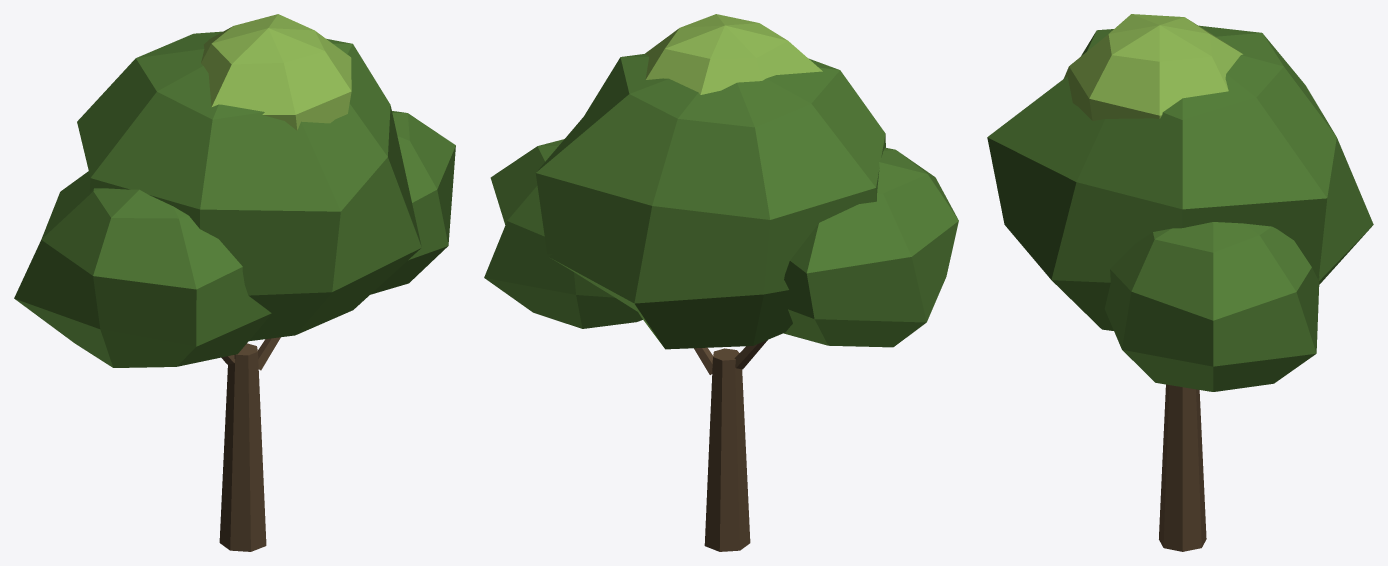
The model's file is FM_TreeOak_01.glb.
The picture shows the model from 3 angles, left to right: view 1: azimuth 30°, elevation 25°; view 2: azimuth 150°, elevation 25°; view 3: azimuth 270°, elevation 25°; orthographic projection. The views are drawn at different scales.
Visible parts, largest first — view 1: FM_TreeOak_01; view 2: FM_TreeOak_01; view 3: FM_TreeOak_01.
Part boxes in pixels (x1,y1,x2,y2): FM_TreeOak_01: (14, 14, 455, 551); FM_TreeOak_01: (484, 14, 958, 551); FM_TreeOak_01: (987, 14, 1373, 551).
Bounding box in the file's own units: 6.76 × 7.54 × 5.05.
1 material, 1 textured.
